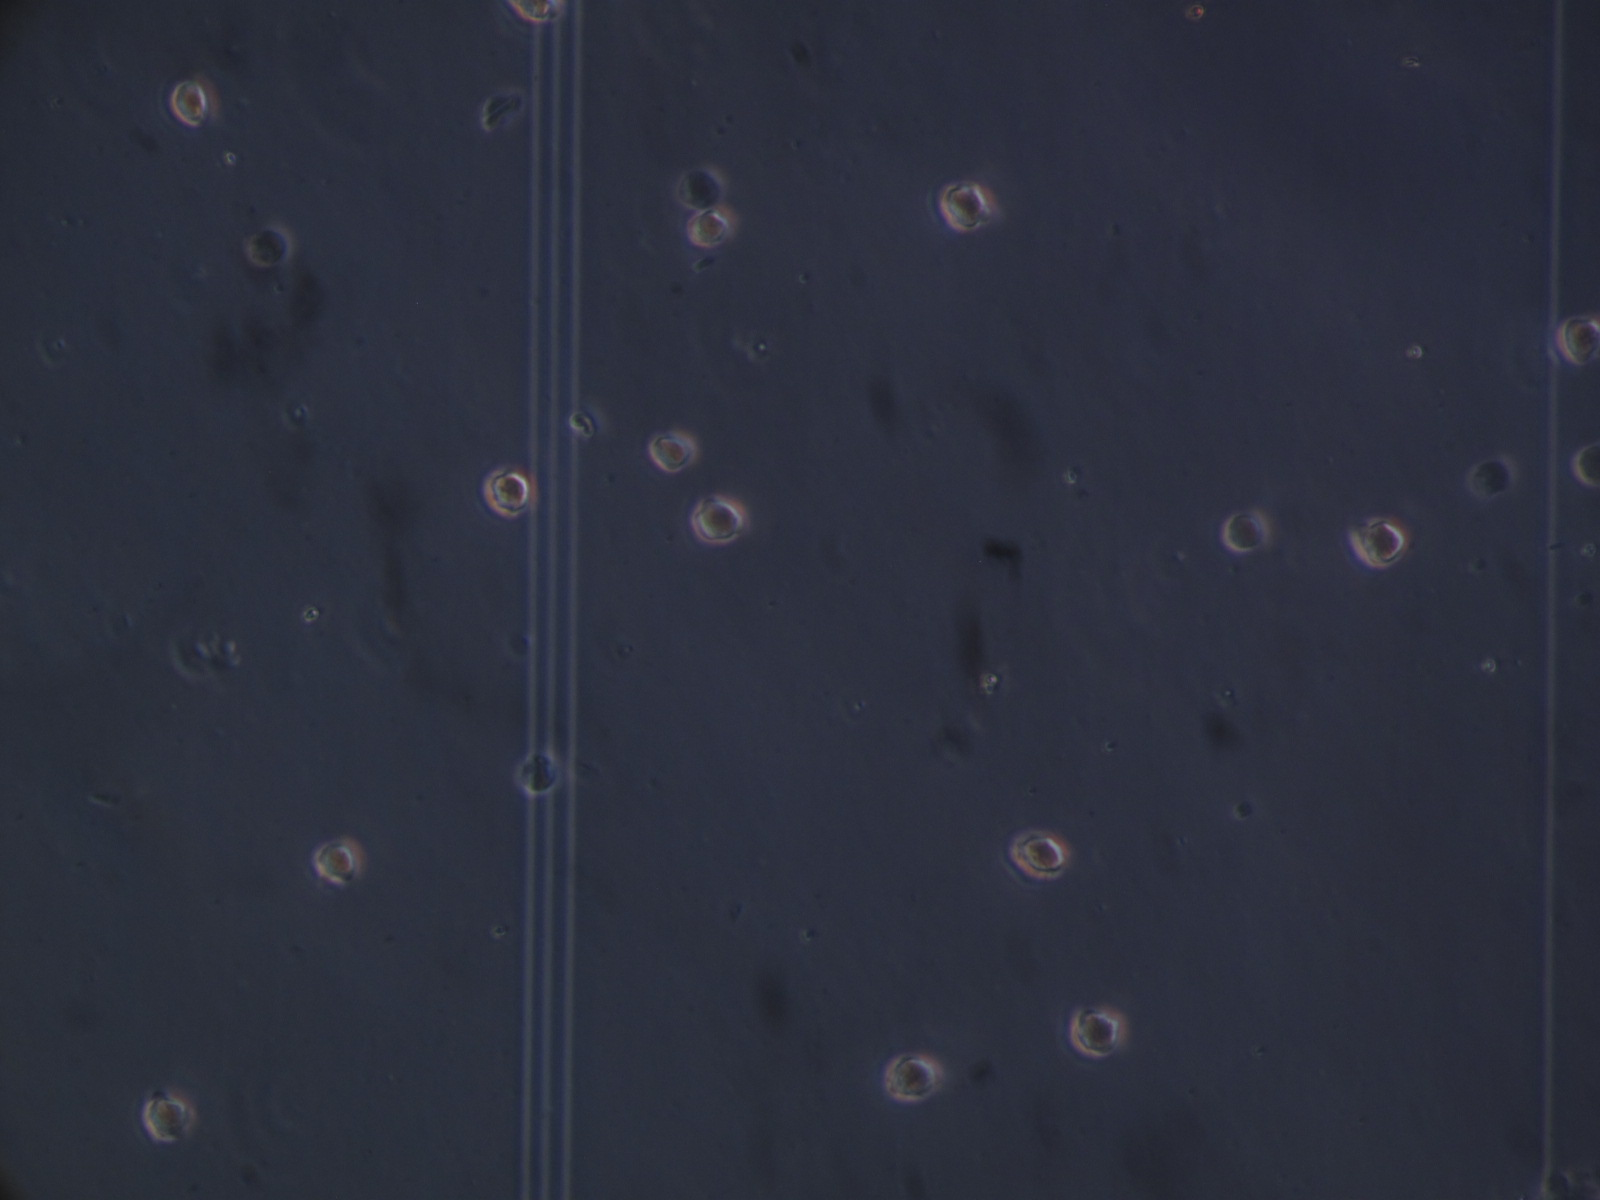hemo: (936, 178, 997, 234), (1008, 828, 1070, 879), (1348, 516, 1406, 568), (1071, 1005, 1128, 1058), (884, 1054, 944, 1103), (690, 494, 745, 545), (671, 165, 727, 211), (315, 838, 364, 886), (145, 1097, 195, 1143), (687, 205, 736, 250), (1558, 315, 1600, 367), (650, 429, 697, 474), (246, 224, 292, 268), (488, 469, 530, 517), (517, 750, 559, 795), (1226, 508, 1270, 551), (173, 81, 208, 126), (506, 1, 559, 23), (1575, 445, 1600, 488)
